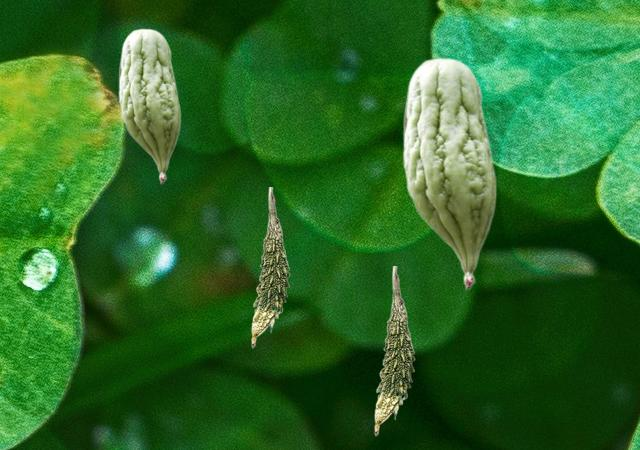ampalaya: (402, 57, 496, 289), (118, 28, 180, 183), (374, 266, 414, 435), (251, 187, 289, 347)
